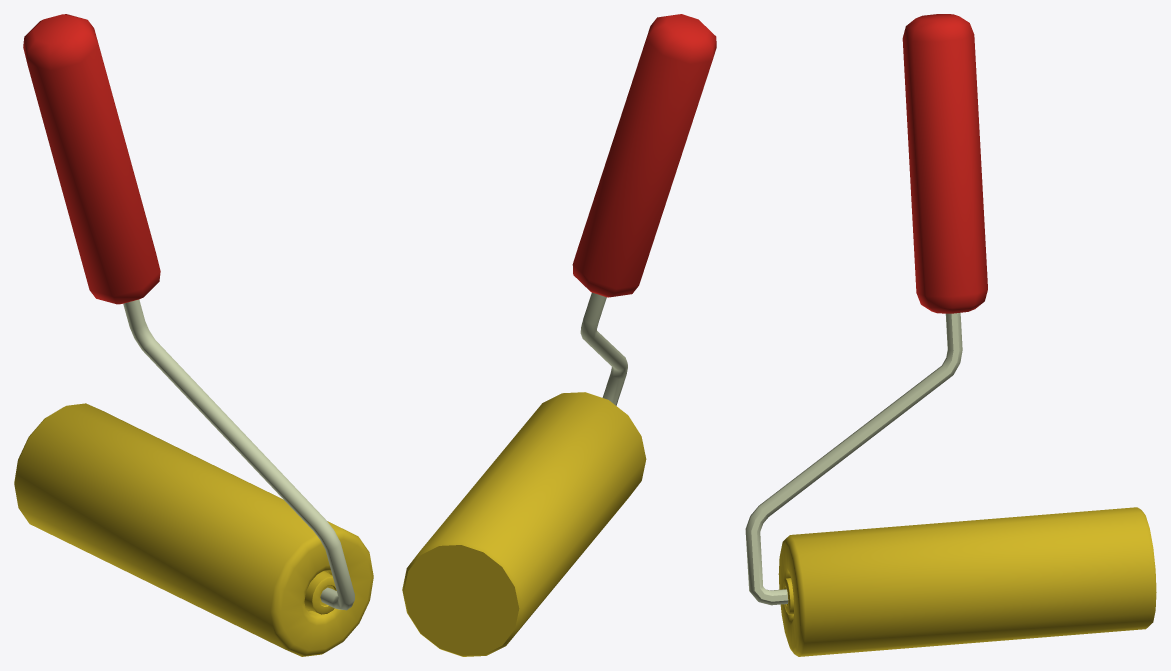
Rendered from QSF_guntong.FBX.
3 views of the same model, side by side, from view 1: azimuth 30°, elevation 25°; view 2: azimuth 150°, elevation 25°; view 3: azimuth 270°, elevation 25° (orthographic). The views are drawn at different scales.
Parts seen in each view (by area): view 1: QSF_guntong; view 2: QSF_guntong; view 3: QSF_guntong.
Part boxes in pixels (x1=…): QSF_guntong: x1=14, y1=14, x2=373, y2=656; QSF_guntong: x1=402, y1=14, x2=716, y2=656; QSF_guntong: x1=745, y1=14, x2=1156, y2=656.
Bounding box in the file's own units: 62.03 × 135 × 90.03.
